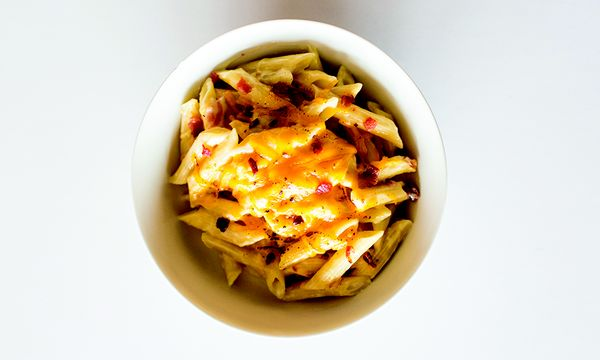sushi: (159, 20, 448, 313)
